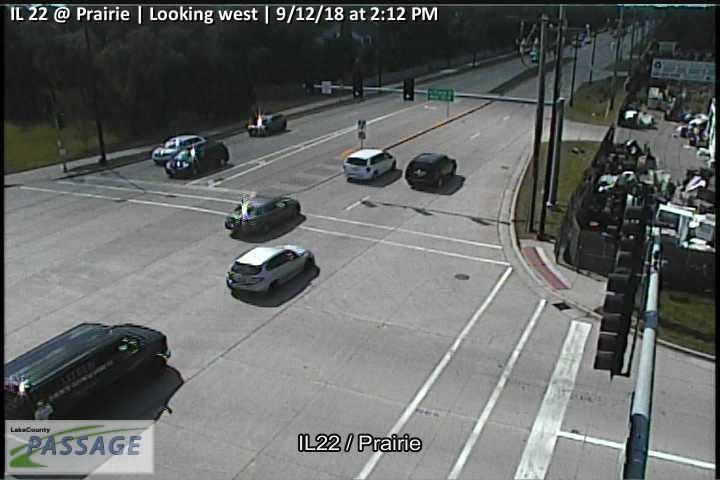SUV: (3, 323, 171, 435), (226, 243, 315, 296), (164, 139, 230, 176), (404, 152, 457, 189), (343, 148, 397, 181)
Sedan: (225, 194, 301, 234), (152, 133, 207, 162), (246, 111, 288, 135)
